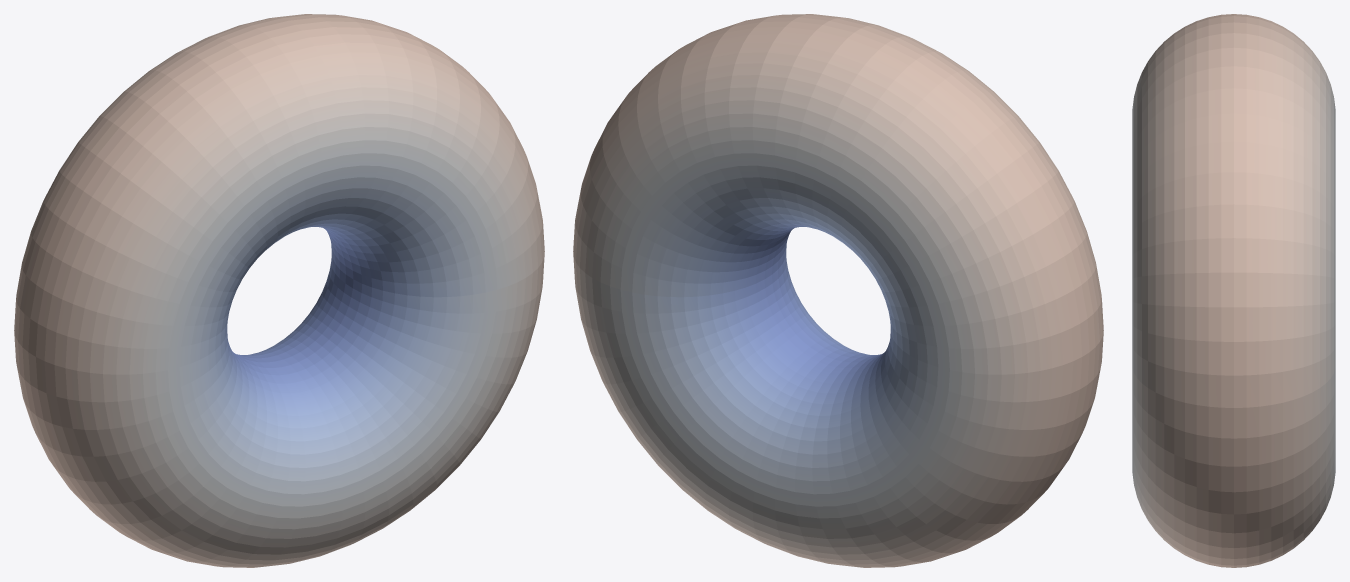
3 views of the same model, side by side, from view 1: azimuth 30°, elevation 25°; view 2: azimuth 150°, elevation 25°; view 3: azimuth 270°, elevation 25° (orthographic). The views are drawn at different scales.
Visible parts, largest first — view 1: world; view 2: world; view 3: world.
Boxes of the visible parts, x1,y1,x2,y2 form: world: (14,14,544,567); world: (573,14,1103,567); world: (1132,14,1335,567).
Bounding box in the file's own units: 22.13 × 22.09 × 8.12.
